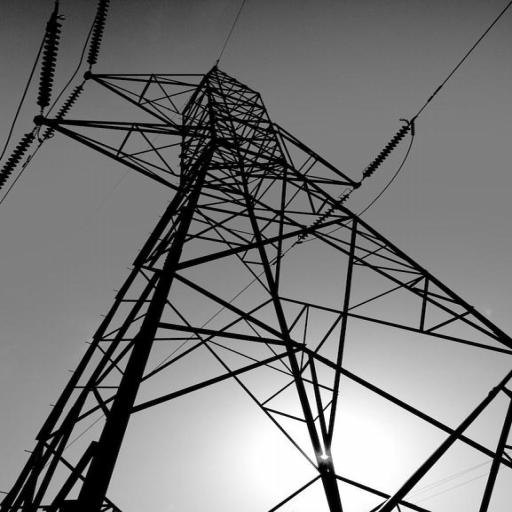ss_4: (35, 52, 511, 511)
